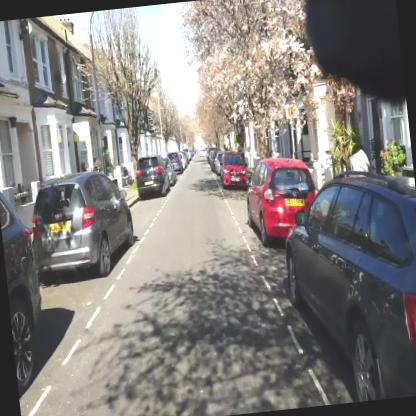car: (276, 163, 415, 407), (26, 168, 138, 286), (0, 168, 51, 396), (242, 152, 321, 249), (134, 152, 170, 200), (218, 150, 248, 190), (166, 150, 184, 174)
